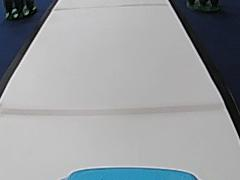corn: (6, 0, 35, 21)
